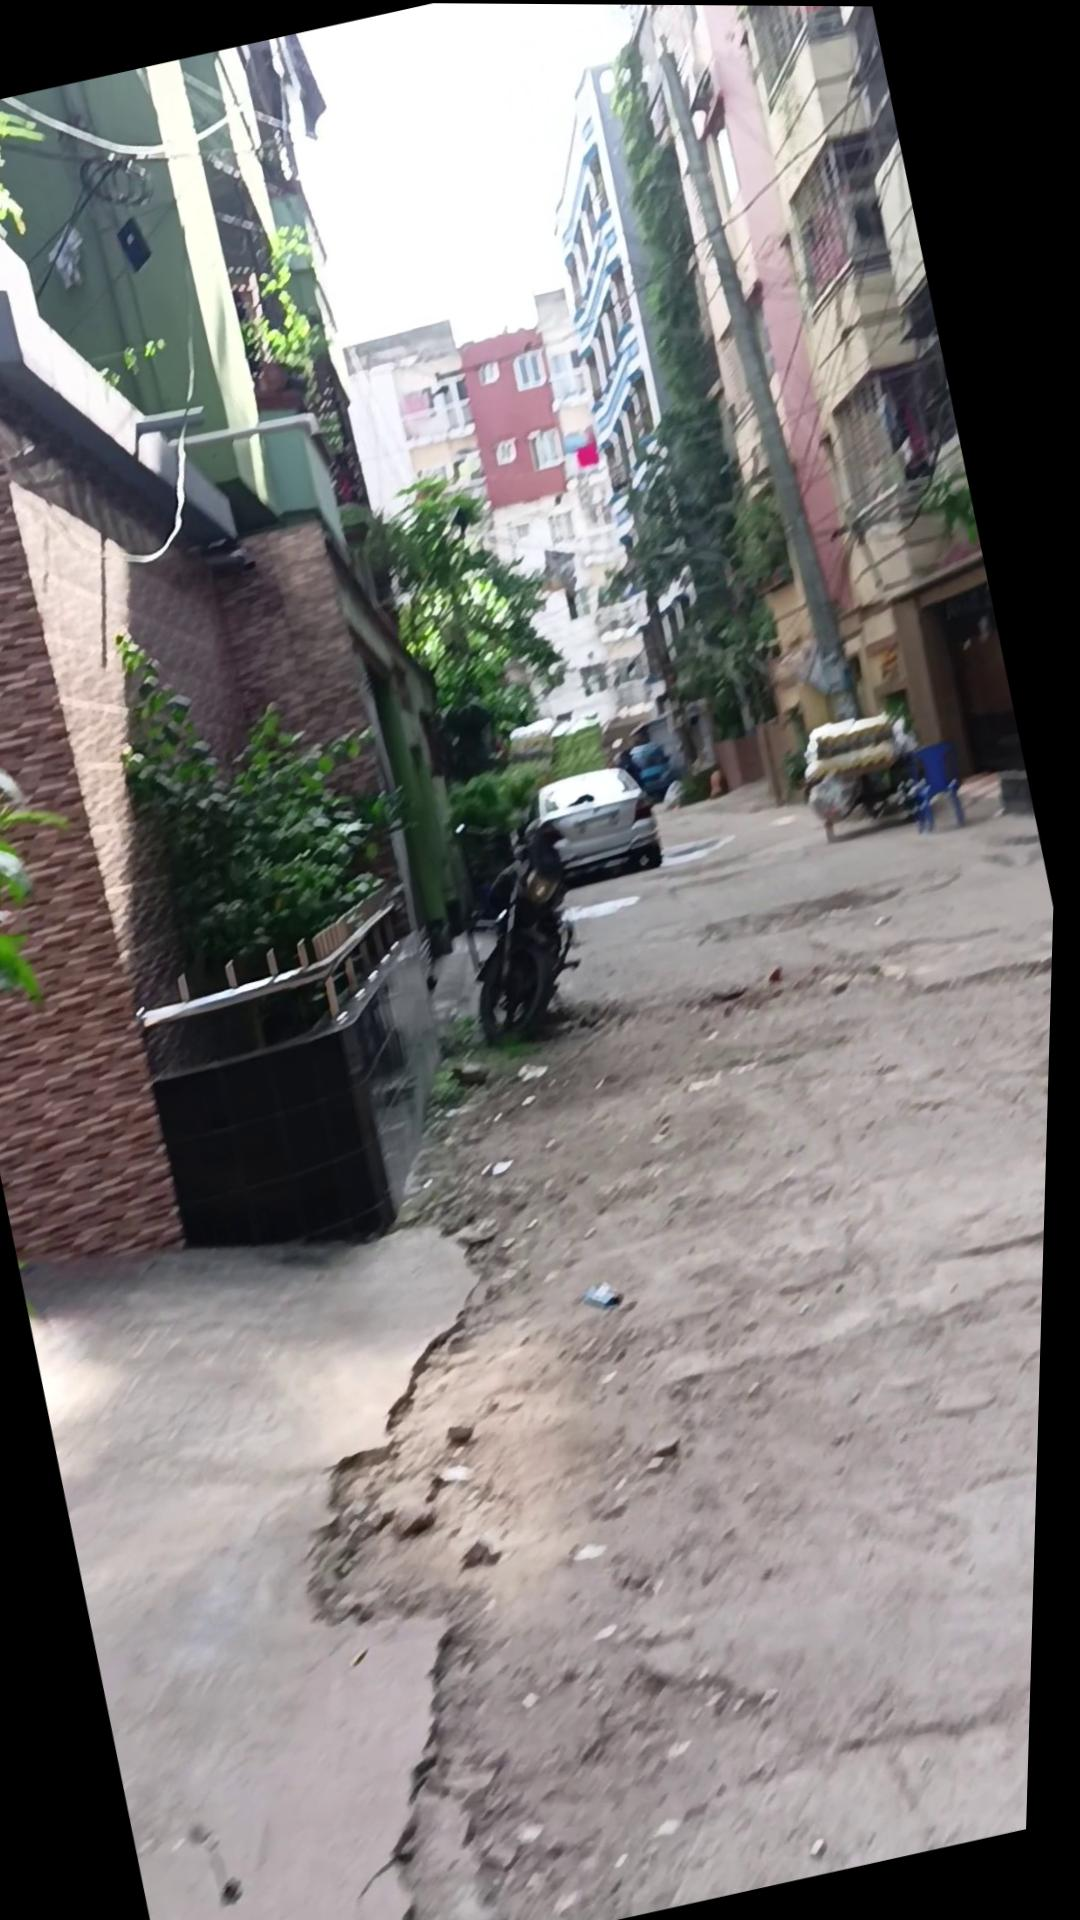Broken-road: (139, 711, 1063, 1920)
Car: (516, 757, 673, 894)
Light-pole: (437, 799, 617, 1051)
Obstacle: (638, 34, 882, 733)
Pothole: (791, 701, 938, 847)
